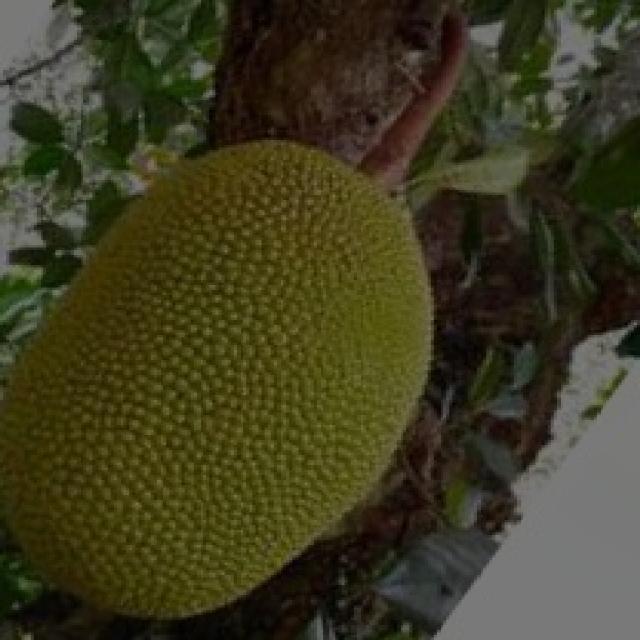Fruit: (0, 265, 391, 640), (61, 118, 468, 462)
